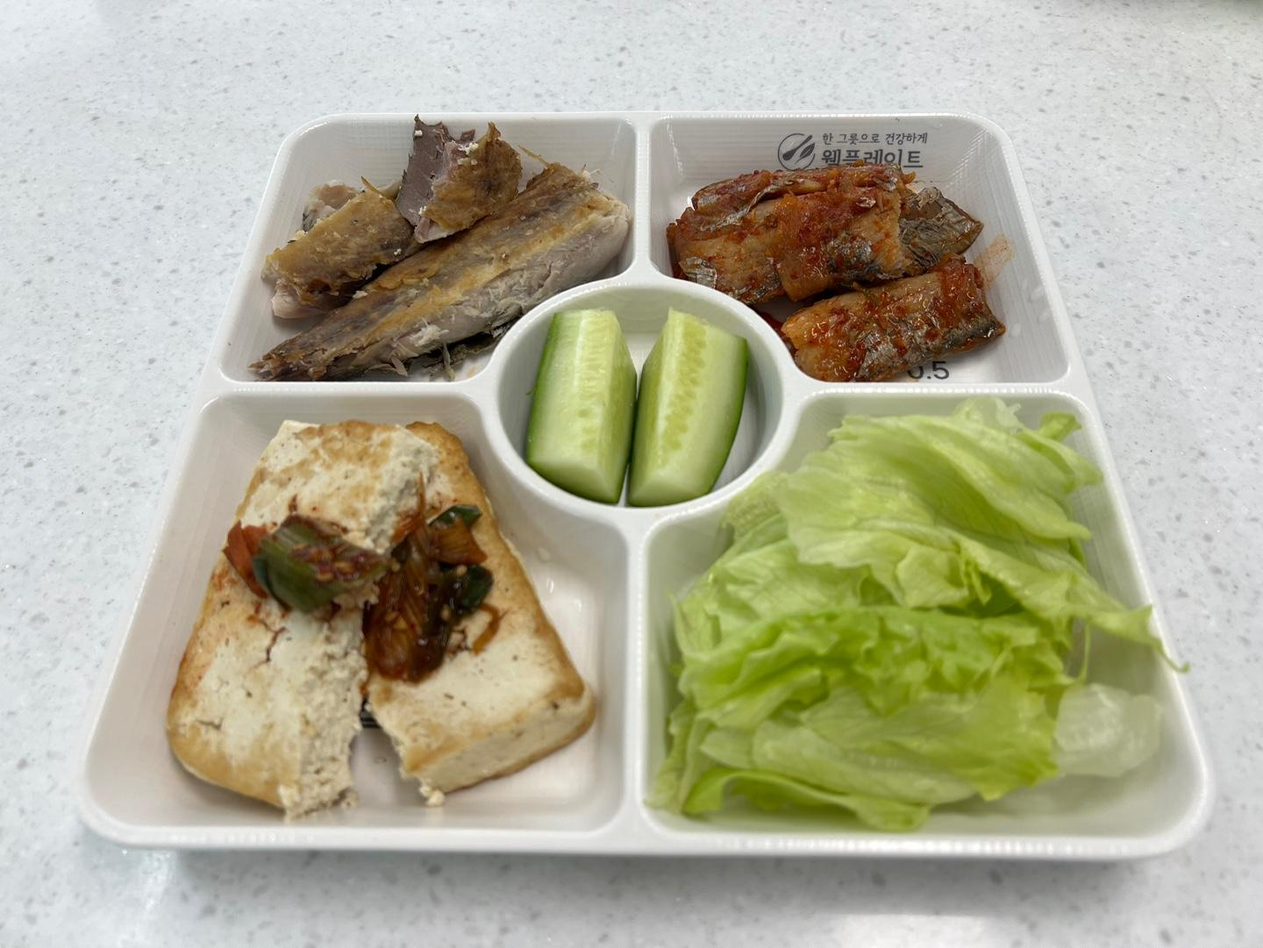food: (689, 412, 1191, 829), (674, 403, 1154, 834), (168, 421, 596, 820), (196, 430, 574, 813), (251, 123, 632, 383), (662, 166, 1003, 385), (674, 151, 1010, 371), (273, 140, 630, 333), (519, 310, 749, 510), (528, 308, 741, 491)
